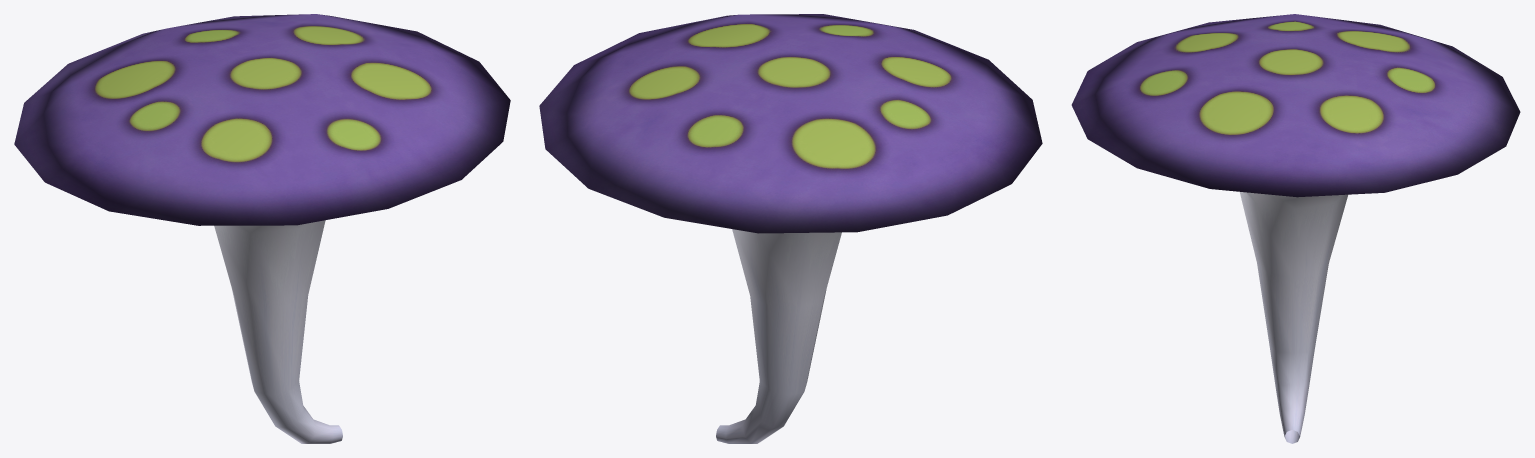
The model's file is Mushroom_Curved1_Purple.fbx.
3 renders of one model, left to right at view 1: azimuth 30°, elevation 25°; view 2: azimuth 150°, elevation 25°; view 3: azimuth 270°, elevation 25°, orthographic. The views are drawn at different scales.
Parts seen in each view (by area): view 1: Mesh; view 2: Mesh; view 3: Mesh.
Boxes of the visible parts, box(x1,y1,x2,y2) form: Mesh: box(14, 14, 510, 443); Mesh: box(539, 14, 1042, 443); Mesh: box(1071, 14, 1520, 443).
Size of the model in its own units: 165 by 140 by 162.
